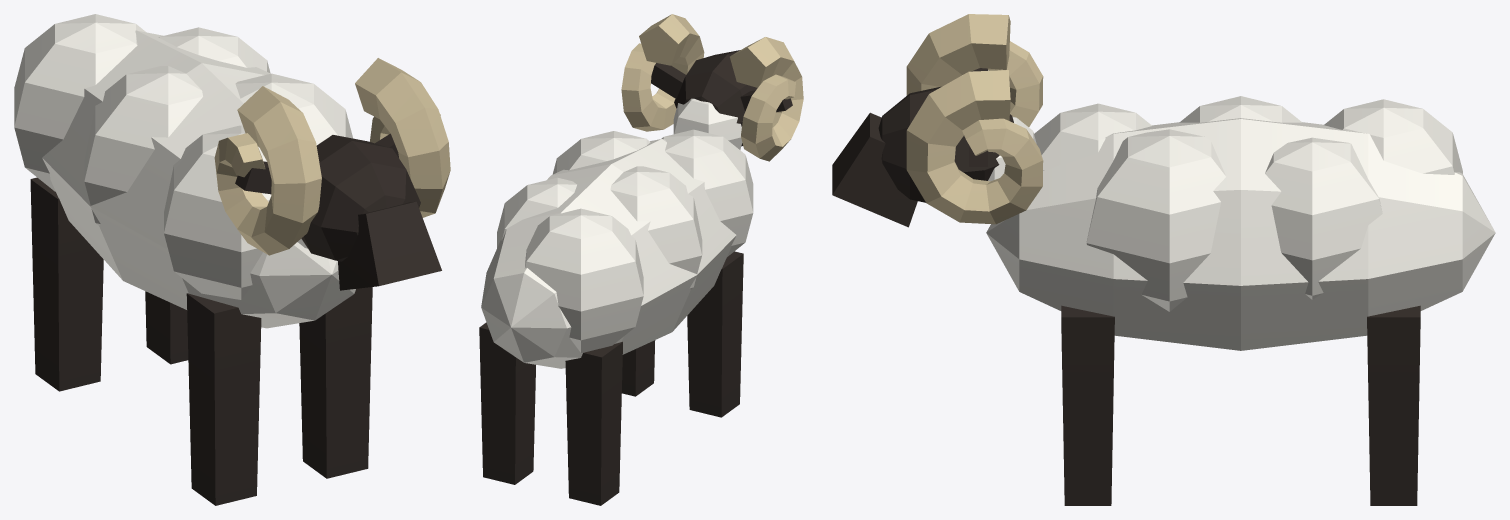
Rendered from SM_Ram.glb.
The picture shows the model from 3 angles, left to right: view 1: azimuth 30°, elevation 25°; view 2: azimuth 150°, elevation 25°; view 3: azimuth 270°, elevation 25°; orthographic projection. The views are drawn at different scales.
Parts seen in each view (by area): view 1: SM_Ram; view 2: SM_Ram; view 3: SM_Ram.
Boxes of the visible parts, bbox=[...] form: SM_Ram: bbox=[14, 14, 450, 505]; SM_Ram: bbox=[479, 14, 803, 505]; SM_Ram: bbox=[832, 14, 1495, 505].
Bounding box in the file's own units: 0.6379 × 1.13 × 1.59.
Materials: 1 (1 with a texture image).
